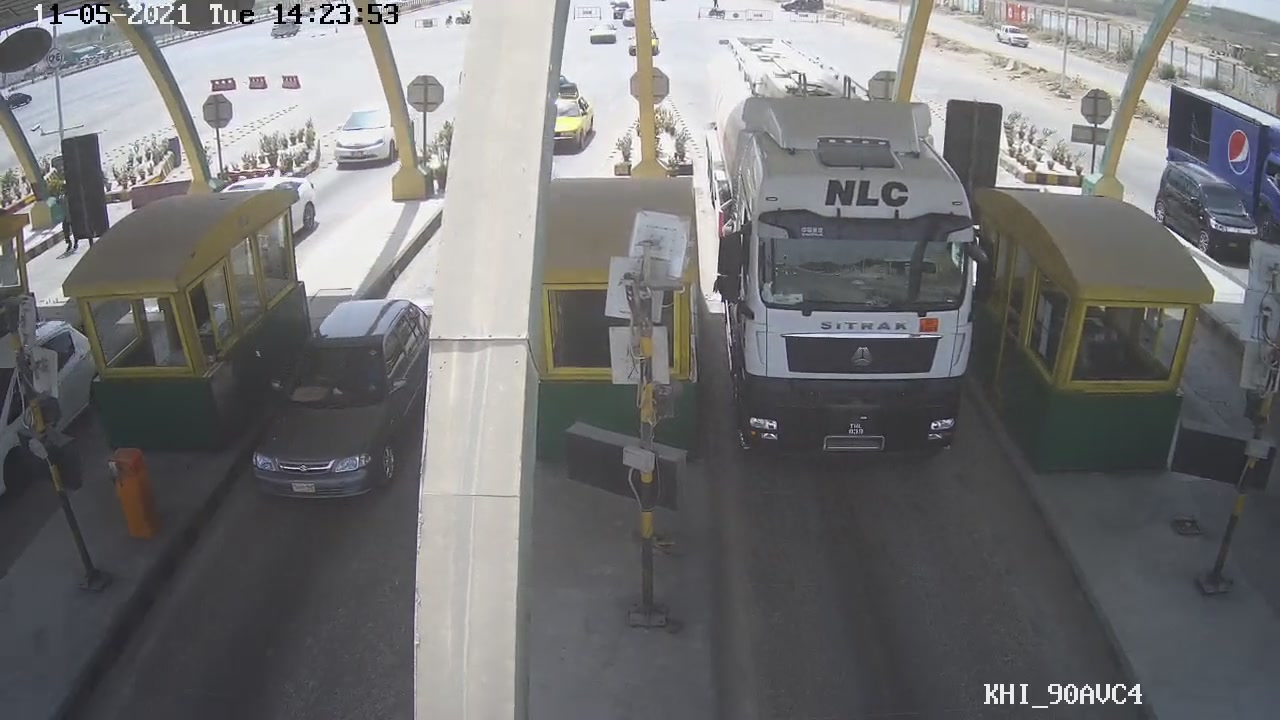F6: (701, 31, 984, 453)
